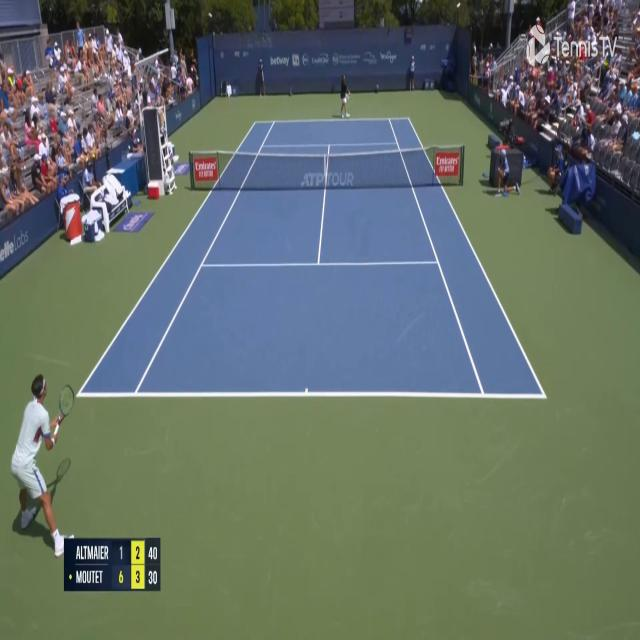tennis-player: (8, 366, 79, 548), (337, 73, 351, 120)
